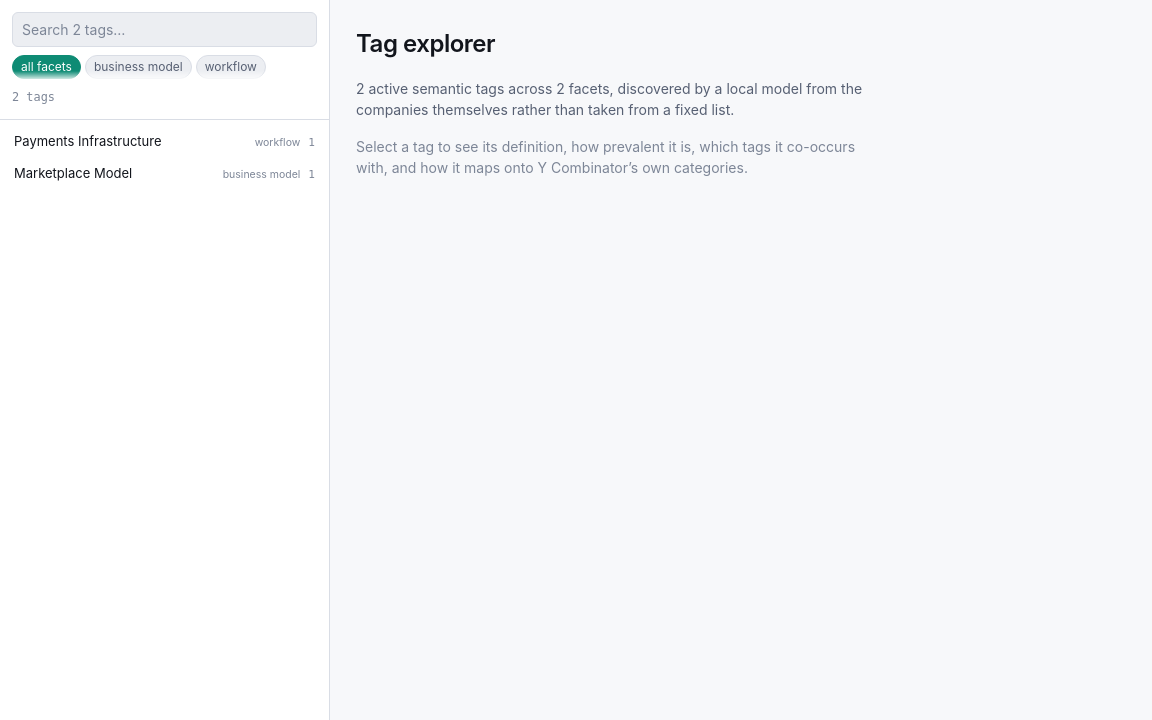
Scenario: tag explorer › filters the tag list by text
The image size is (1152, 720).
Check: the text "Payments Infrastructure" is shown, box [14,133,162,149]
Type "marketplace" into the search field named "Search tags" at (164, 30), box [12,12,317,47]
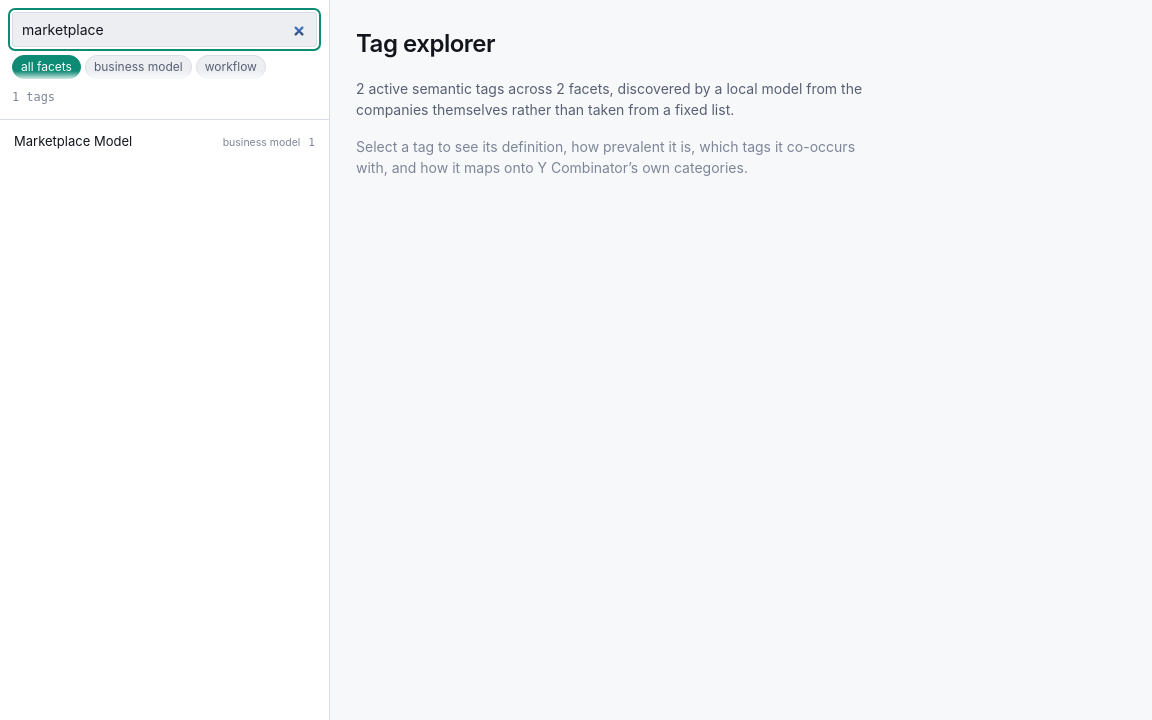
Check: the text "Marketplace Model" is shown, box [14,133,132,149]
Check: the link "Payments Infrastructure" is gone
